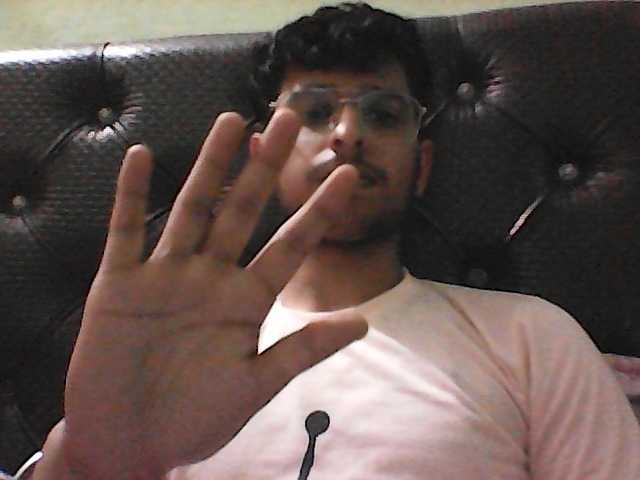hello: (33, 92, 389, 476)
